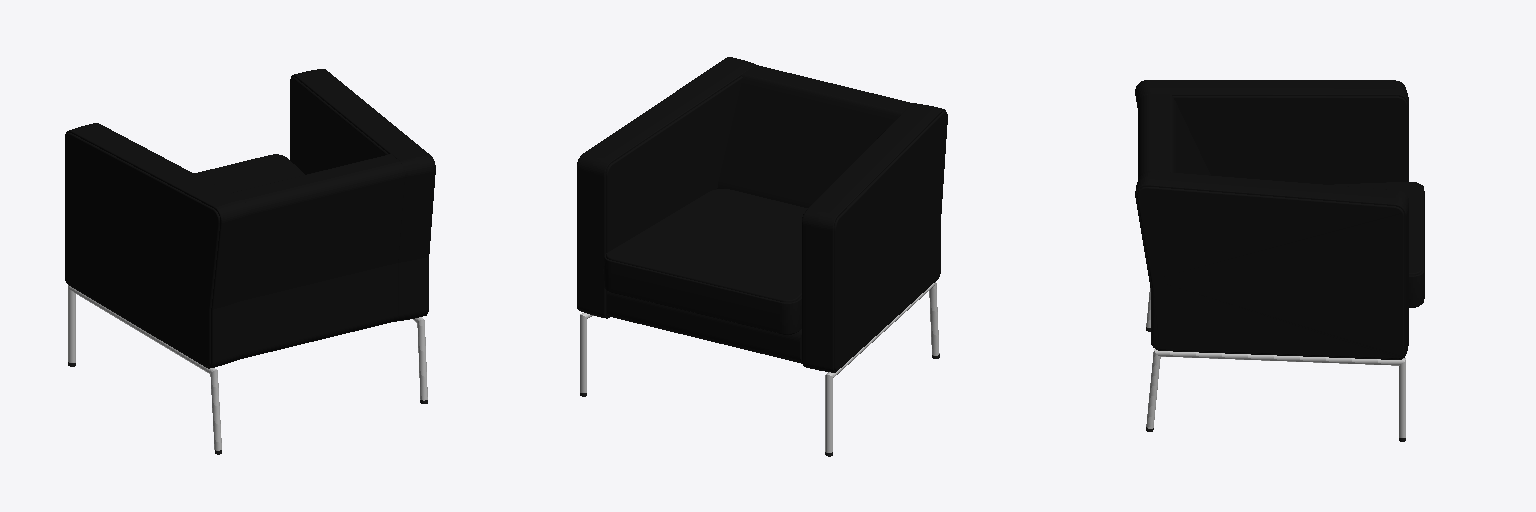
3 views of the same model, side by side, from view 1: azimuth 30°, elevation 25°; view 2: azimuth 150°, elevation 25°; view 3: azimuth 270°, elevation 25° (orthographic).
Parts seen in each view (by area): view 1: Mesh9 Groupe_10_2 Fauteuil_cuir1 Model, Mesh3 Group4 Fauteuil_cuir1 Model, Mesh8 Groupe_10_1 Fauteuil_cuir1 Model, Mesh1 Group1 Fauteuil_cuir1 Model, Mesh6 Pieds1 Group5 Fauteuil_cuir1 Model, Mesh7 Pieds2 Group5 Fauteuil_cuir1 Model; view 2: Mesh9 Groupe_10_2 Fauteuil_cuir1 Model, Mesh1 Group1 Fauteuil_cuir1 Model, Mesh8 Groupe_10_1 Fauteuil_cuir1 Model, Mesh3 Group4 Fauteuil_cuir1 Model, Mesh2 Group3 Fauteuil_cuir1 Model, Mesh6 Pieds1 Group5 Fauteuil_cuir1 Model, Mesh7 Pieds2 Group5 Fauteuil_cuir1 Model; view 3: Mesh8 Groupe_10_1 Fauteuil_cuir1 Model, Mesh9 Groupe_10_2 Fauteuil_cuir1 Model, Mesh3 Group4 Fauteuil_cuir1 Model, Mesh7 Pieds2 Group5 Fauteuil_cuir1 Model, Mesh1 Group1 Fauteuil_cuir1 Model.
Boxes of the visible parts, x1,y1,x2,y2 form: Mesh9 Groupe_10_2 Fauteuil_cuir1 Model: [65, 123, 248, 368]; Mesh3 Group4 Fauteuil_cuir1 Model: [232, 154, 404, 359]; Mesh8 Groupe_10_1 Fauteuil_cuir1 Model: [290, 69, 435, 321]; Mesh1 Group1 Fauteuil_cuir1 Model: [194, 154, 304, 192]; Mesh6 Pieds1 Group5 Fauteuil_cuir1 Model: [68, 285, 221, 454]; Mesh7 Pieds2 Group5 Fauteuil_cuir1 Model: [413, 317, 427, 403]; Mesh9 Groupe_10_2 Fauteuil_cuir1 Model: [802, 103, 947, 372]; Mesh1 Group1 Fauteuil_cuir1 Model: [603, 189, 807, 334]; Mesh8 Groupe_10_1 Fauteuil_cuir1 Model: [577, 57, 755, 318]; Mesh3 Group4 Fauteuil_cuir1 Model: [717, 65, 912, 207]; Mesh2 Group3 Fauteuil_cuir1 Model: [607, 291, 801, 363]; Mesh6 Pieds1 Group5 Fauteuil_cuir1 Model: [825, 282, 939, 456]; Mesh7 Pieds2 Group5 Fauteuil_cuir1 Model: [580, 313, 593, 396]; Mesh8 Groupe_10_1 Fauteuil_cuir1 Model: [1135, 171, 1408, 359]; Mesh9 Groupe_10_2 Fauteuil_cuir1 Model: [1135, 80, 1408, 184]; Mesh3 Group4 Fauteuil_cuir1 Model: [1138, 94, 1210, 178]; Mesh7 Pieds2 Group5 Fauteuil_cuir1 Model: [1146, 349, 1405, 441]; Mesh1 Group1 Fauteuil_cuir1 Model: [1334, 182, 1424, 307].
Size of the model in its own units: 0.636 by 0.5821 by 0.6153.